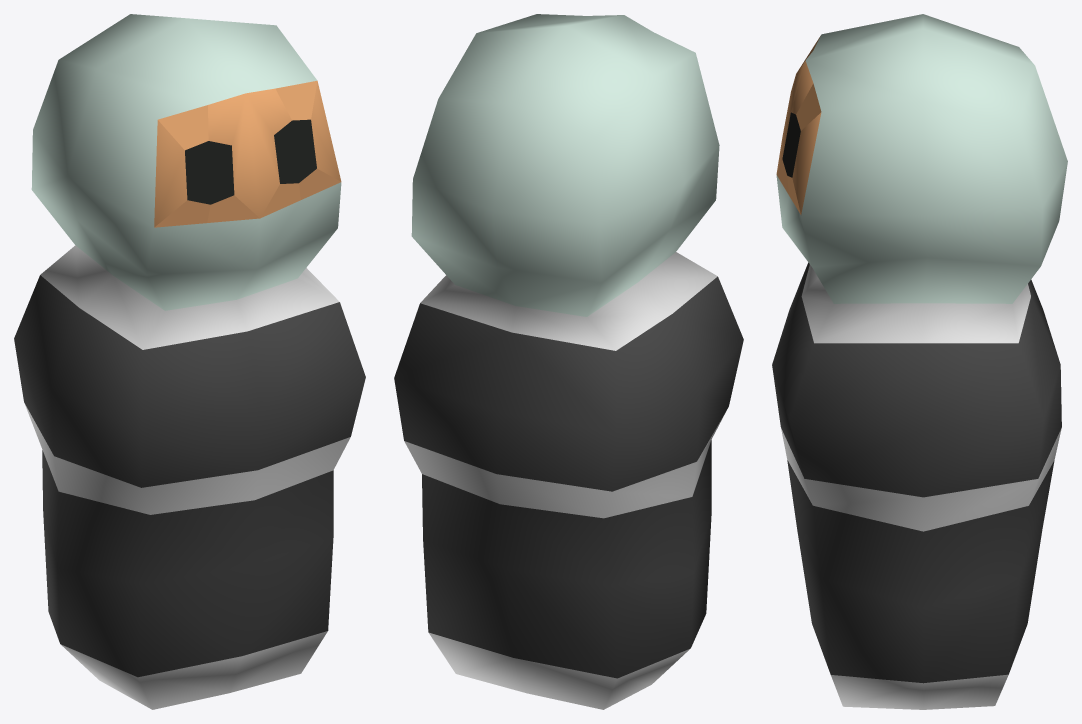
File: CapsuleMan.fbx
The picture shows the model from 3 angles, left to right: view 1: azimuth 30°, elevation 25°; view 2: azimuth 150°, elevation 25°; view 3: azimuth 270°, elevation 25°; orthographic projection.
Parts seen in each view (by area): view 1: Cubo; view 2: Cubo; view 3: Cubo.
Part boxes in pixels (x1,y1,x2,y2): Cubo: (14,14,365,709); Cubo: (394,14,743,709); Cubo: (772,14,1067,709).
Size of the model in its own units: 86.64 by 197 by 82.27.
